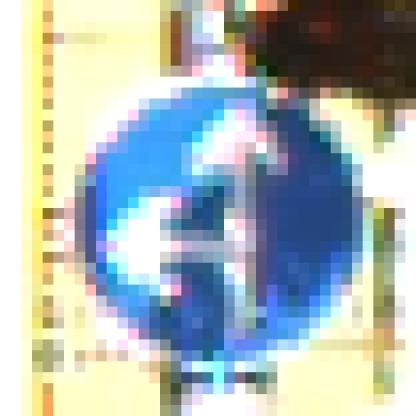Straight or Left: (65, 56, 364, 362)
